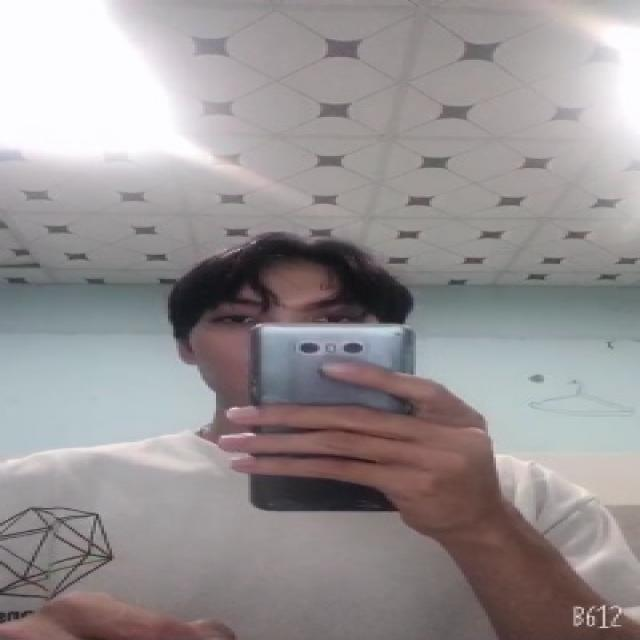Phone: (246, 322, 420, 512)
